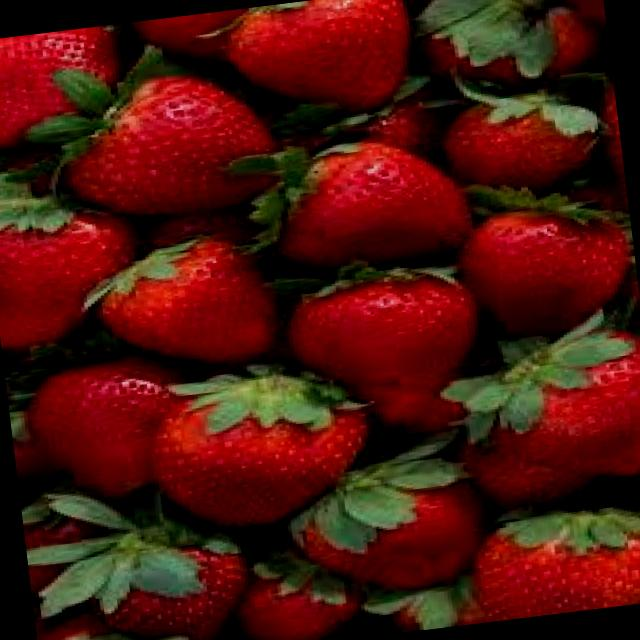strawberry: (126, 342, 400, 562), (52, 60, 284, 227), (255, 128, 470, 280), (87, 228, 284, 378), (454, 193, 640, 349), (286, 459, 490, 601), (212, 0, 414, 127), (84, 531, 254, 640)
